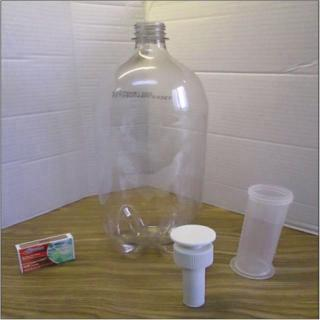Plastic-bottle: (94, 21, 213, 266), (227, 184, 297, 280)
